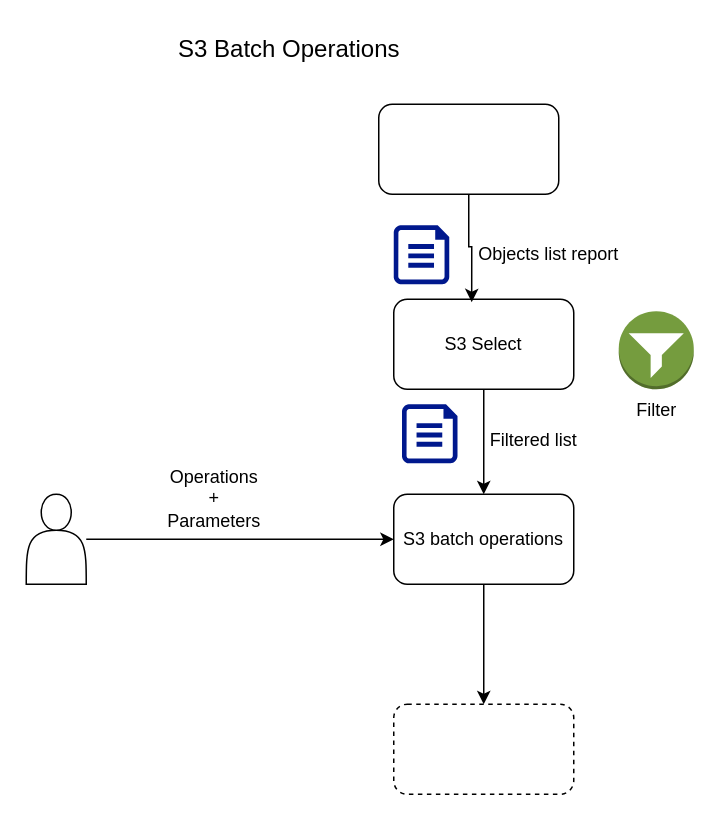
This 720x821 diagram has some shape labels left out. The centre of each missing label's shape, as x and y in pixels:
"processed objects" belongs at pixel 483 748.
"S3 inventory" belongs at pixel 468 148.
